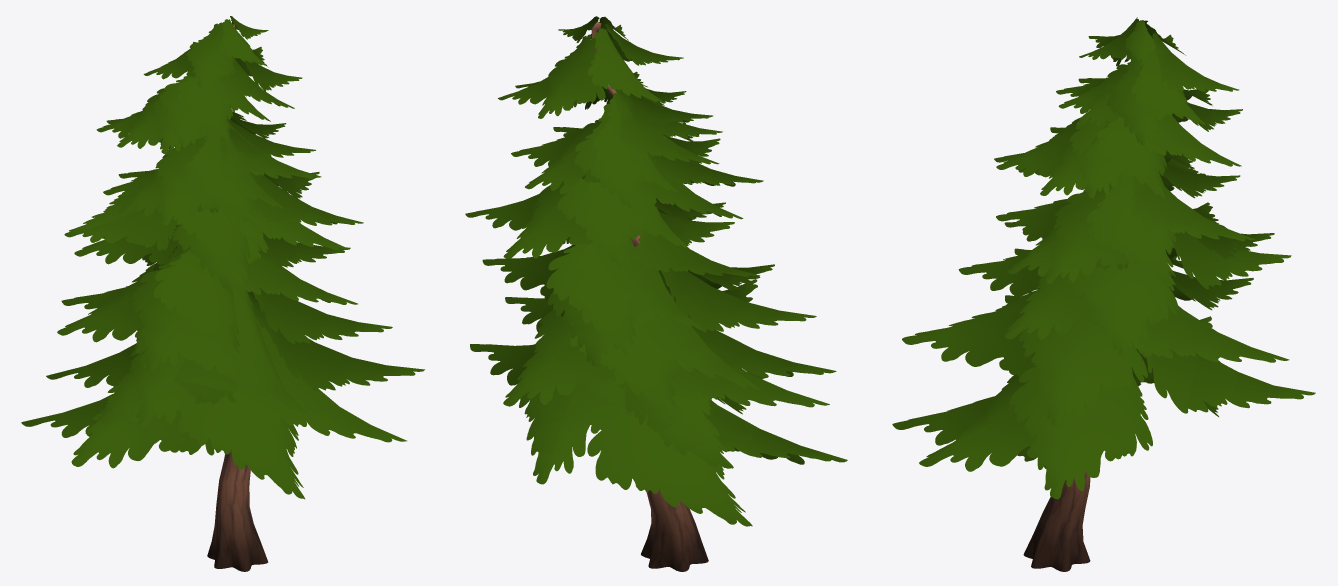
The model's file is Pine_5.glb.
3 views of the same model, side by side, from view 1: azimuth 30°, elevation 25°; view 2: azimuth 150°, elevation 25°; view 3: azimuth 270°, elevation 25° (orthographic). The views are drawn at different scales.
Parts seen in each view (by area): view 1: Pine_5; view 2: Pine_5; view 3: Pine_5.
Boxes of the visible parts, bbox=[...] form: Pine_5: bbox=[21, 16, 424, 571]; Pine_5: bbox=[465, 16, 847, 571]; Pine_5: bbox=[892, 17, 1315, 571].
Bounding box in the file's own units: 6.42 × 8.72 × 6.22.
Materials: 2 (2 with a texture image).
